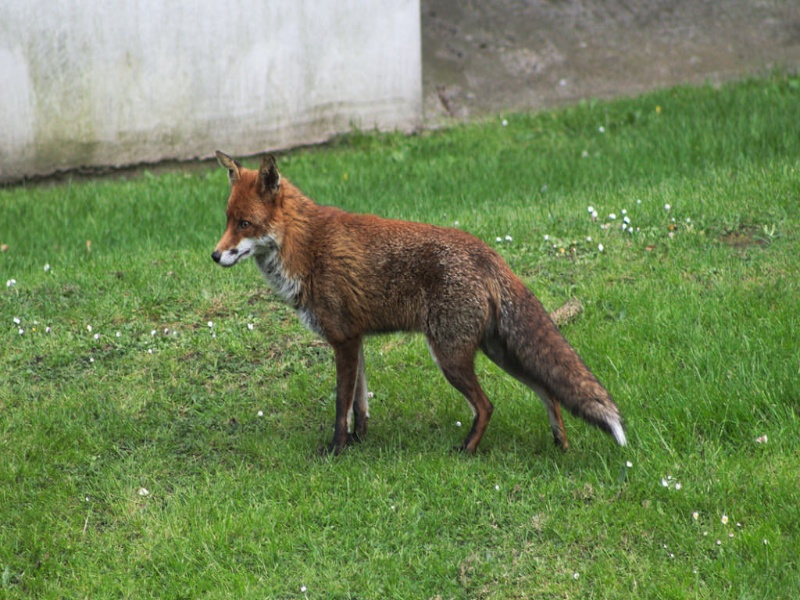fox: (208, 146, 630, 466)
